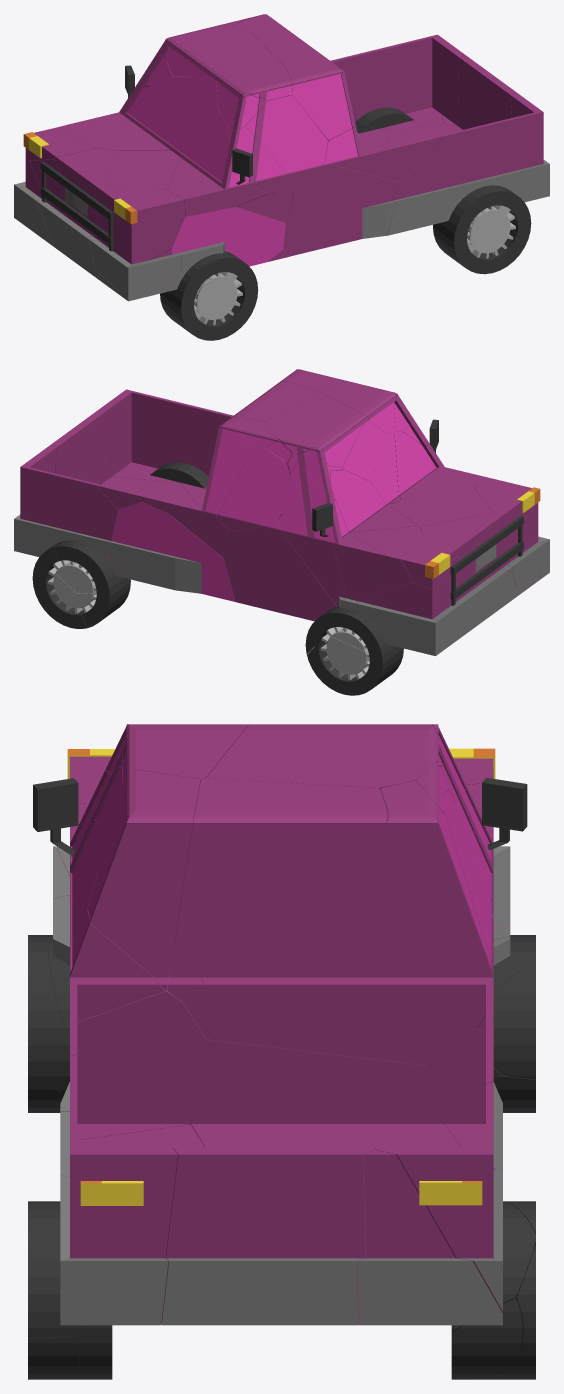
The model's file is Truck Purple Shatter.fbx.
3 views of the same model, one above another, from view 1: azimuth 30°, elevation 25°; view 2: azimuth 150°, elevation 25°; view 3: azimuth 270°, elevation 25° (orthographic). The views are drawn at different scales.
Parts seen in each view (by area): view 1: Truck Body.004_cell.035, Truck Body.004_cell.021, Truck Body.004_cell.014, Truck Body.004_cell, Truck Body.004_cell.004, Truck Body.004_cell.012, Truck Body.004_cell.005, Truck Body.004_cell.006, Truck Body.004_cell.048, Truck Body.004_cell.016, Truck Body.004_cell.031, Truck Body.004_cell.003 (+33 smaller); view 2: Truck Body.004_cell.014, Truck Body.004_cell.034, Truck Body.004_cell.035, Truck Body.004_cell.010, Truck Body.004_cell.042, Truck Body.004_cell.016, Truck Body.004_cell.006, Truck Body.004_cell.044, Truck Body.004_cell.027, Truck Body.004_cell, Truck Body.004_cell.012, Truck Body.004_cell.019 (+33 smaller); view 3: Truck Body.004_cell.027, Truck Body.004_cell.016, Truck Body.004_cell.053, Truck Body.004_cell.008, Truck Body.004_cell.014, Truck Body.004_cell.021, Truck Body.004_cell.031, Truck Body.004_cell.037, Truck Body.004_cell.006, Truck Body.004_cell.035, Truck Body.004_cell.003, Truck Body.004_cell.034 (+27 smaller).
Boxes of the visible parts, x1,y1,x2,y2 form: Truck Body.004_cell.035: [345, 34, 462, 129]; Truck Body.004_cell.021: [283, 161, 397, 256]; Truck Body.004_cell.014: [437, 92, 549, 202]; Truck Body.004_cell: [90, 184, 184, 288]; Truck Body.004_cell.004: [171, 206, 286, 281]; Truck Body.004_cell.012: [167, 117, 275, 216]; Truck Body.004_cell.005: [245, 95, 327, 187]; Truck Body.004_cell.006: [166, 26, 282, 77]; Truck Body.004_cell.048: [386, 151, 467, 235]; Truck Body.004_cell.016: [387, 57, 516, 148]; Truck Body.004_cell.031: [285, 58, 355, 140]; Truck Body.004_cell.003: [325, 126, 441, 181]; Truck Body.004_cell.014: [99, 389, 227, 483]; Truck Body.004_cell.034: [106, 502, 235, 601]; Truck Body.004_cell.035: [14, 446, 118, 556]; Truck Body.004_cell.010: [223, 519, 336, 621]; Truck Body.004_cell.042: [342, 582, 475, 655]; Truck Body.004_cell.016: [53, 409, 198, 507]; Truck Body.004_cell.006: [264, 392, 368, 466]; Truck Body.004_cell.044: [216, 447, 289, 531]; Truck Body.004_cell.027: [142, 416, 265, 520]; Truck Body.004_cell: [474, 477, 548, 588]; Truck Body.004_cell.012: [394, 431, 484, 499]; Truck Body.004_cell.019: [277, 493, 347, 608]; Truck Body.004_cell.027: [182, 780, 493, 1065]; Truck Body.004_cell.016: [161, 1147, 375, 1325]; Truck Body.004_cell.053: [167, 778, 387, 1000]; Truck Body.004_cell.008: [191, 1039, 494, 1169]; Truck Body.004_cell.014: [60, 1055, 177, 1325]; Truck Body.004_cell.021: [60, 937, 208, 1140]; Truck Body.004_cell.031: [87, 769, 200, 990]; Truck Body.004_cell.037: [357, 1150, 502, 1325]; Truck Body.004_cell.006: [206, 724, 442, 788]; Truck Body.004_cell.035: [375, 1081, 502, 1312]; Truck Body.004_cell.003: [70, 909, 165, 1055]; Truck Body.004_cell.034: [428, 1030, 502, 1169].
Size of the model in its own units: 404 by 197 by 210.
